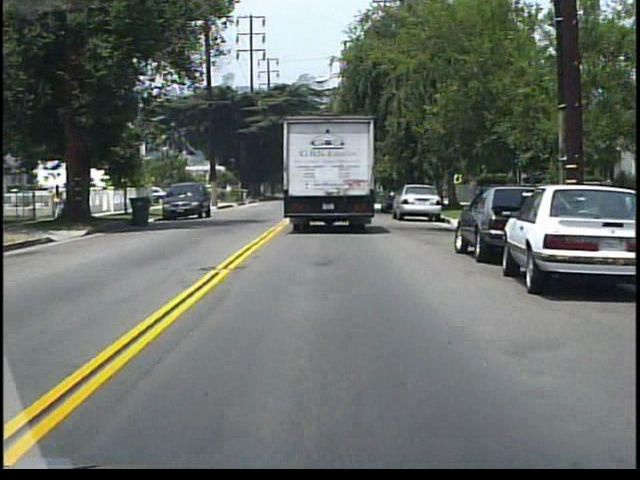person: (53, 181, 67, 218)
